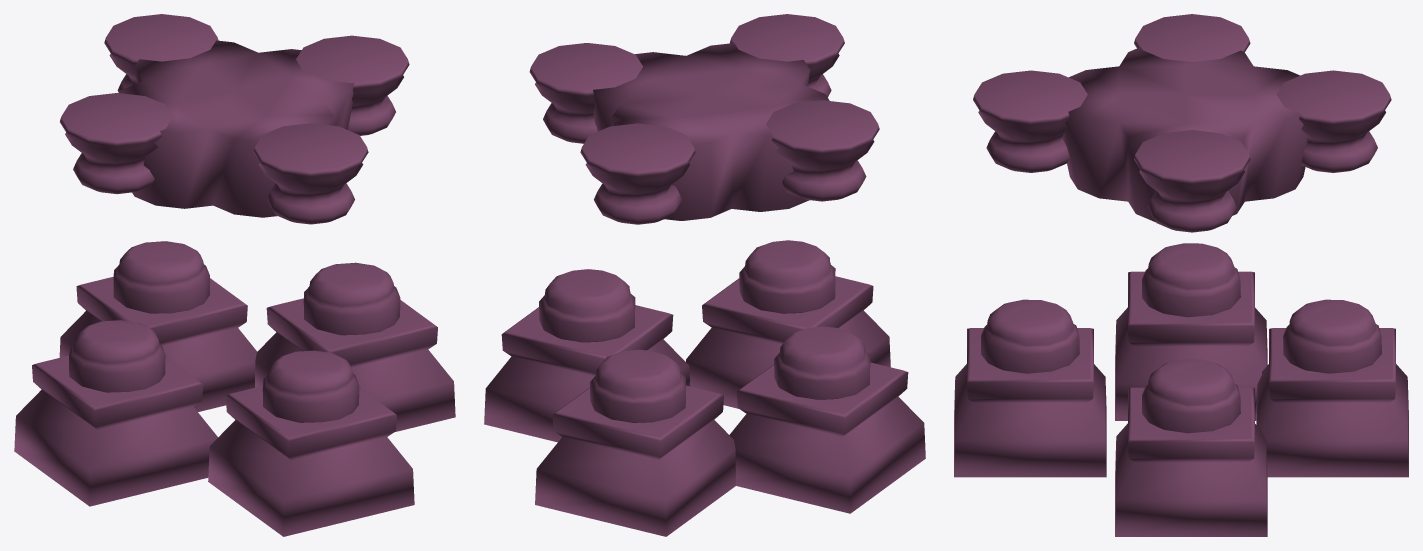
Rendered from Pillar_06B.fbx.
The picture shows the model from 3 angles, left to right: view 1: azimuth 30°, elevation 25°; view 2: azimuth 150°, elevation 25°; view 3: azimuth 270°, elevation 25°; orthographic projection.
Visible parts, largest first — view 1: Pillar_06B; view 2: Pillar_06B; view 3: Pillar_06B.
Part boxes in pixels (x1,y1,x2,y2): Pillar_06B: [14, 14, 455, 536]; Pillar_06B: [484, 14, 925, 536]; Pillar_06B: [954, 14, 1408, 536].
Bounding box in the file's own units: 170 × 154 × 181.
